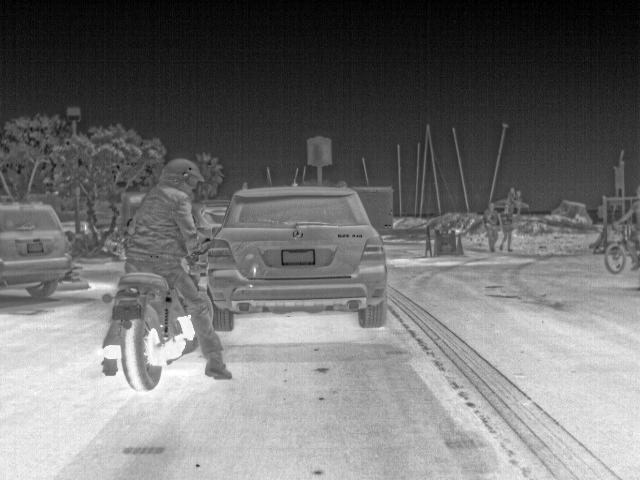car: (205, 182, 388, 331), (2, 202, 77, 302), (190, 197, 232, 245)
person: (103, 156, 235, 380), (499, 204, 517, 255), (484, 203, 500, 253)
